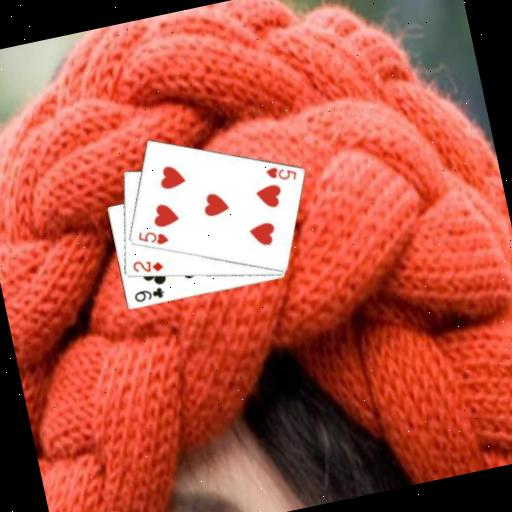2D: (128, 253, 165, 278)
5H: (133, 223, 170, 251), (261, 160, 299, 187)
9C: (130, 283, 166, 305)
